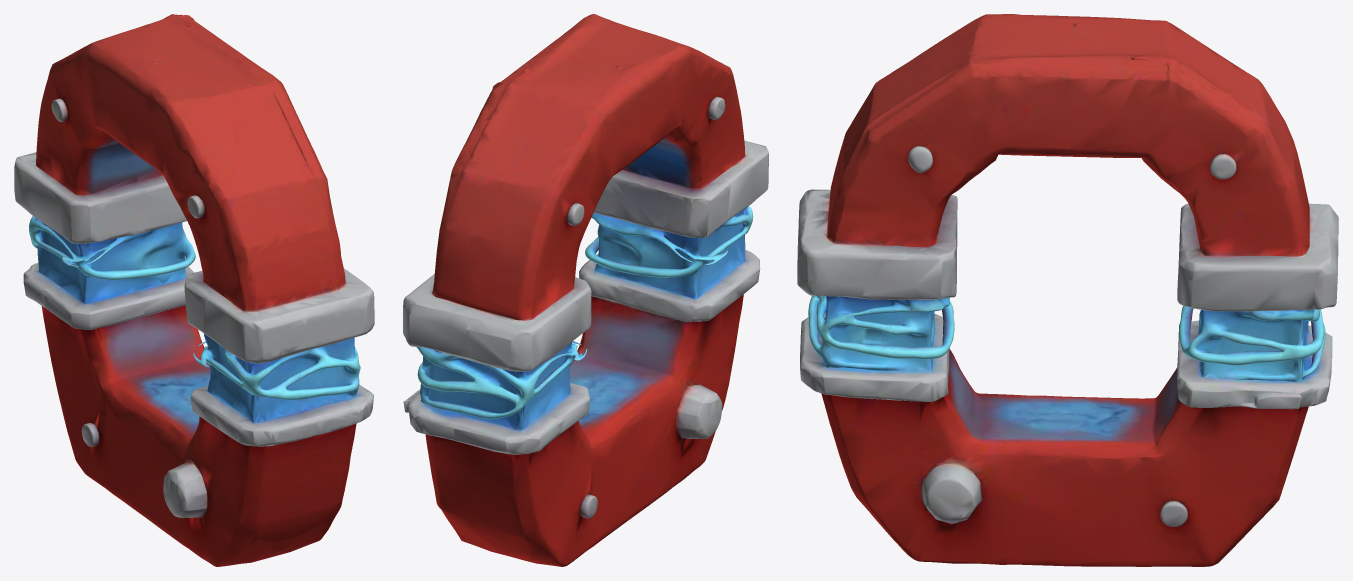
File: magnet.glb
3 views of the same model, side by side, from view 1: azimuth 30°, elevation 25°; view 2: azimuth 150°, elevation 25°; view 3: azimuth 270°, elevation 25° (orthographic). The views are drawn at different scales.
Parts seen in each view (by area): view 1: tripo_node_34e882d1-015e-430c-9056-49c3322a855f; view 2: tripo_node_34e882d1-015e-430c-9056-49c3322a855f; view 3: tripo_node_34e882d1-015e-430c-9056-49c3322a855f.
Boxes of the visible parts, x1,y1,x2,y2 form: tripo_node_34e882d1-015e-430c-9056-49c3322a855f: (14, 14, 374, 566); tripo_node_34e882d1-015e-430c-9056-49c3322a855f: (403, 14, 768, 566); tripo_node_34e882d1-015e-430c-9056-49c3322a855f: (797, 14, 1338, 566).
Bounding box in the file's own units: 0.3615 × 1 × 0.9803.
Materials: 1 (1 with a texture image).
